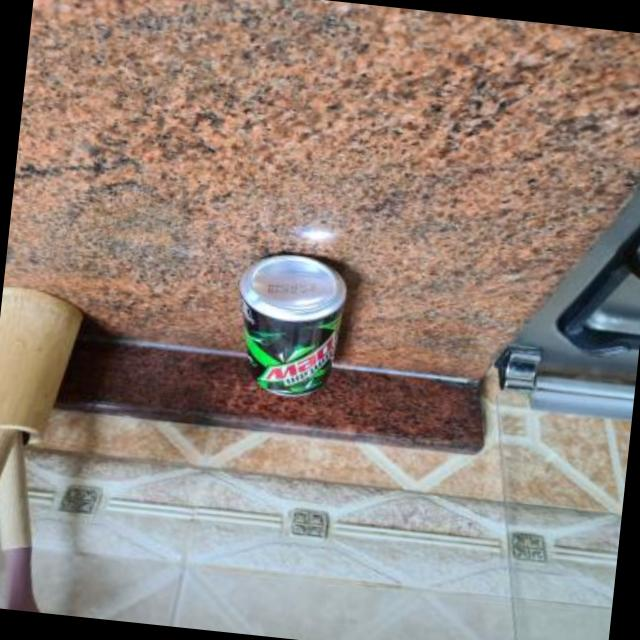metal: (239, 253, 346, 396)
